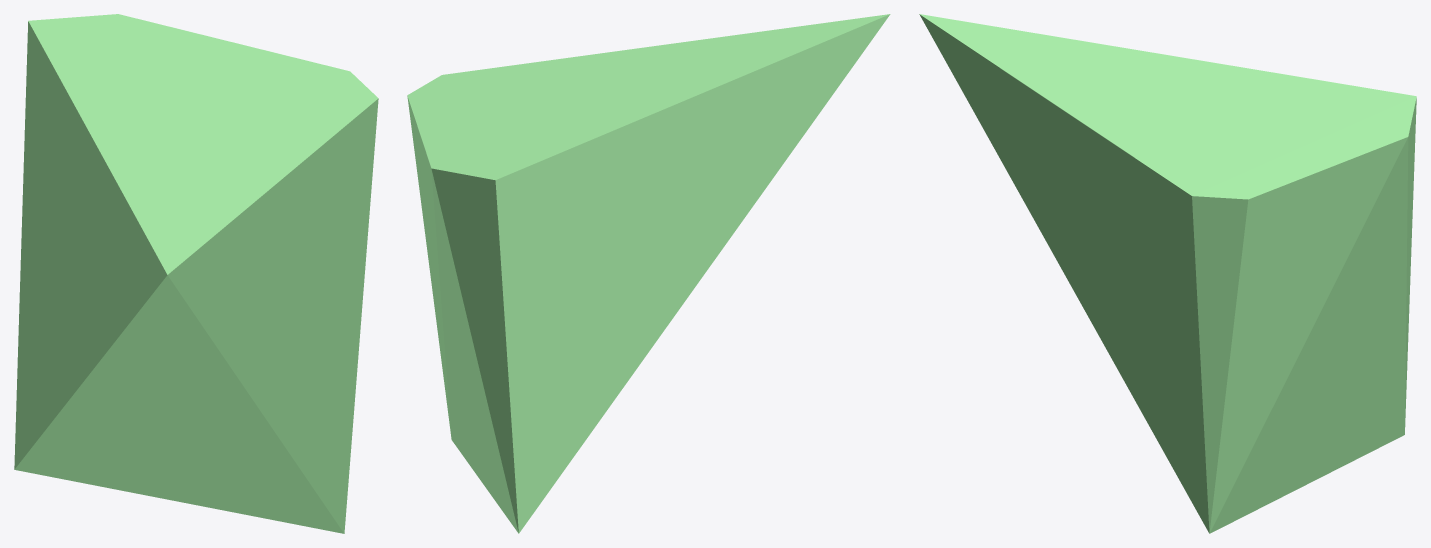
Rendered from UMIRobot_UMIRobot_link_4_convex_coll_27.dae.
3 views of the same model, side by side, from view 1: azimuth 30°, elevation 25°; view 2: azimuth 150°, elevation 25°; view 3: azimuth 270°, elevation 25° (orthographic). The views are drawn at different scales.
Parts seen in each view (by area): view 1: node; view 2: node; view 3: node.
Boxes of the visible parts, x1=… form: node: x1=14, y1=14, x2=378, y2=533; node: x1=407, y1=14, x2=890, y2=533; node: x1=919, y1=14, x2=1416, y2=533.
Bounding box in the file's own units: 0.014 × 0.0165 × 0.0195.
